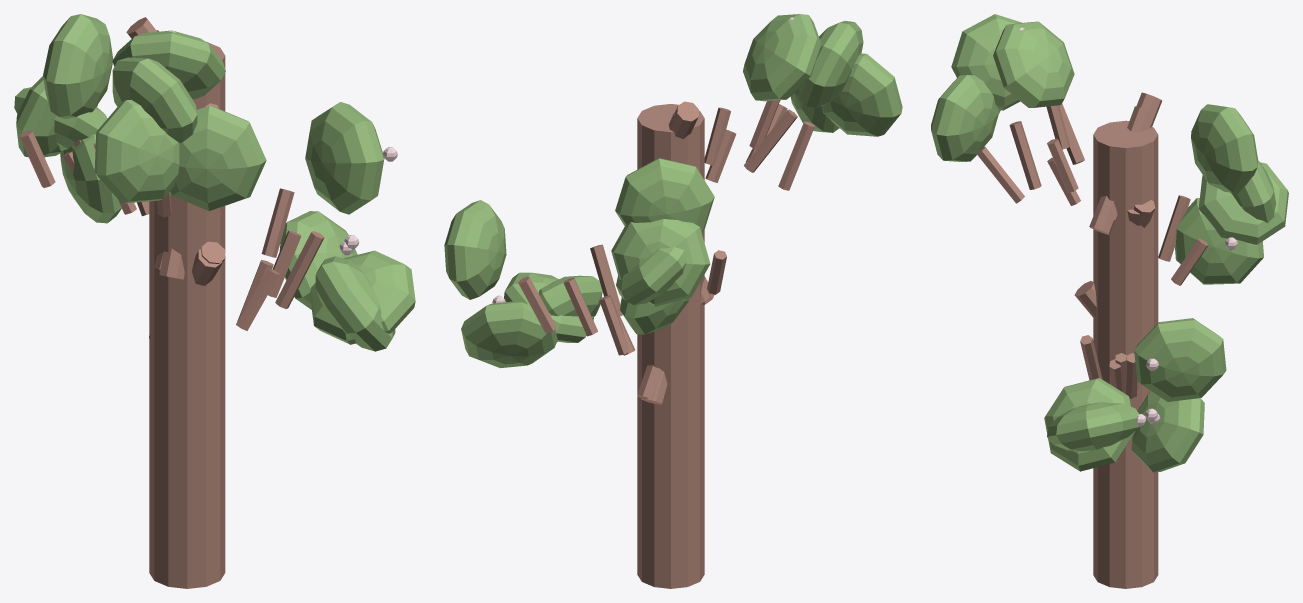
Rendered from cherry_growing.glb.
The picture shows the model from 3 angles, left to right: view 1: azimuth 30°, elevation 25°; view 2: azimuth 150°, elevation 25°; view 3: azimuth 270°, elevation 25°; orthographic projection. The views are drawn at different scales.
Parts seen in each view (by area): view 1: CherryGrowing_trunk, CherryGrowing_leaves_5, CherryGrowing_leaves_11, CherryGrowing_leaves_1, CherryGrowing_leaves_3, CherryGrowing_leaves_6, CherryGrowing_leaves_7, CherryGrowing_leaves_12, CherryGrowing_leaves_8, CherryGrowing_leaves_9, CherryGrowing_leaves_2, CherryGrowing_leaves_10 (+8 smaller); view 2: CherryGrowing_trunk, CherryGrowing_leaves_3, CherryGrowing_leaves_12, CherryGrowing_leaves_2, CherryGrowing_leaves_1, CherryGrowing_leaves_10, CherryGrowing_leaves_11, CherryGrowing_leaves_6, CherryGrowing_leaves_4, CherryGrowing_leaves_7, CherryGrowing_leaves_8, CherryGrowing_leaves_9 (+12 smaller); view 3: CherryGrowing_trunk, CherryGrowing_leaves_1, CherryGrowing_leaves_12, CherryGrowing_leaves_3, CherryGrowing_leaves_5, CherryGrowing_leaves_2, CherryGrowing_leaves_9, CherryGrowing_leaves_8, CherryGrowing_leaves_4, CherryGrowing_leaves_7, CherryGrowing_leaves_6, CherryGrowing_leaves_10 (+12 smaller).
Boxes of the visible parts, <box> form: CherryGrowing_trunk: <box>149,41,225,588</box>; CherryGrowing_leaves_5: <box>169,105,266,211</box>; CherryGrowing_leaves_11: <box>94,99,179,203</box>; CherryGrowing_leaves_1: <box>305,102,384,214</box>; CherryGrowing_leaves_3: <box>43,14,113,118</box>; CherryGrowing_leaves_6: <box>112,57,197,143</box>; CherryGrowing_leaves_7: <box>315,256,395,351</box>; CherryGrowing_leaves_12: <box>112,30,225,99</box>; CherryGrowing_leaves_8: <box>310,250,415,344</box>; CherryGrowing_leaves_9: <box>60,134,121,223</box>; CherryGrowing_leaves_2: <box>279,211,357,309</box>; CherryGrowing_leaves_10: <box>16,76,97,157</box>; CherryGrowing_trunk: <box>637,104,704,588</box>; CherryGrowing_leaves_3: <box>615,158,714,232</box>; CherryGrowing_leaves_12: <box>743,14,821,101</box>; CherryGrowing_leaves_2: <box>461,301,557,368</box>; CherryGrowing_leaves_1: <box>444,200,506,299</box>; CherryGrowing_leaves_10: <box>611,219,710,306</box>; CherryGrowing_leaves_11: <box>821,53,902,136</box>; CherryGrowing_leaves_6: <box>798,21,863,107</box>; CherryGrowing_leaves_4: <box>616,247,686,304</box>; CherryGrowing_leaves_7: <box>538,275,602,341</box>; CherryGrowing_leaves_8: <box>504,272,593,342</box>; CherryGrowing_leaves_9: <box>620,297,689,334</box>; CherryGrowing_trunk: <box>1093,120,1158,588</box>; CherryGrowing_leaves_1: <box>1134,318,1226,401</box>; CherryGrowing_leaves_12: <box>993,21,1074,107</box>; CherryGrowing_leaves_3: <box>1191,104,1258,193</box>; CherryGrowing_leaves_5: <box>931,75,999,161</box>; CherryGrowing_leaves_2: <box>1131,390,1204,472</box>; CherryGrowing_leaves_9: <box>1175,198,1263,284</box>; CherryGrowing_leaves_8: <box>1047,402,1139,451</box>; CherryGrowing_leaves_4: <box>1198,162,1288,244</box>; CherryGrowing_leaves_7: <box>1044,378,1135,471</box>; CherryGrowing_leaves_6: <box>951,14,1022,110</box>; CherryGrowing_leaves_10: <box>1231,161,1276,223</box>.
Bounding box in the file's own units: 1.21 × 1.76 × 1.1.
